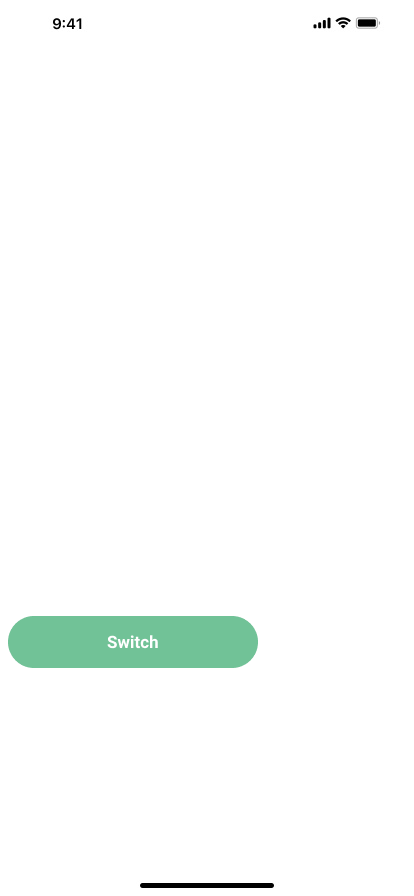Buttons: (8, 616, 258, 668)
Home Indicator: (0, 862, 414, 896)
Status Bar: (0, 0, 414, 44)
